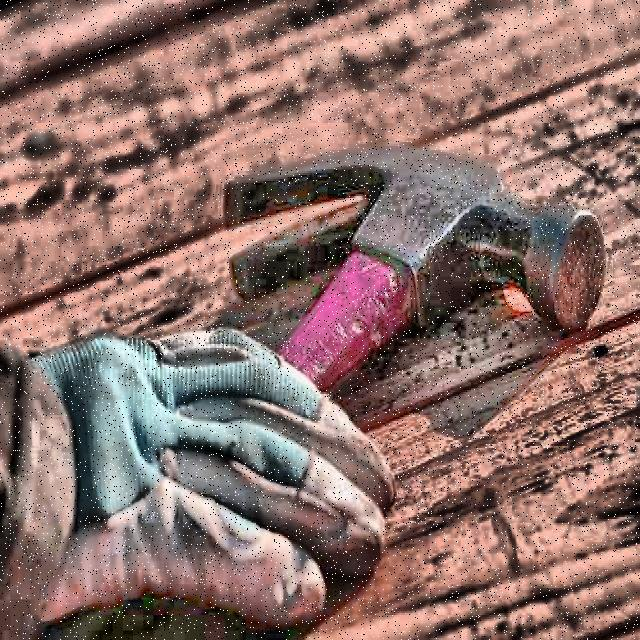hammer: (66, 141, 613, 553)
